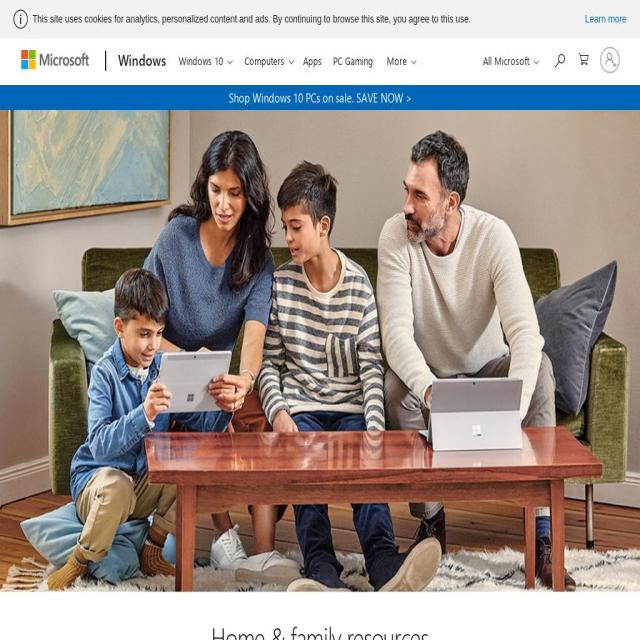button: (170, 38, 242, 82), (473, 38, 543, 82), (236, 38, 304, 82), (112, 38, 170, 84), (379, 38, 426, 82), (328, 39, 378, 80), (298, 39, 328, 80), (585, 8, 627, 30), (548, 40, 571, 78), (579, 38, 589, 78)
heading: (115, 619, 525, 640)
image: (0, 105, 636, 586), (13, 8, 29, 30)
link: (228, 88, 412, 106)
text: (32, 12, 471, 25), (118, 49, 166, 70), (483, 52, 529, 68)
